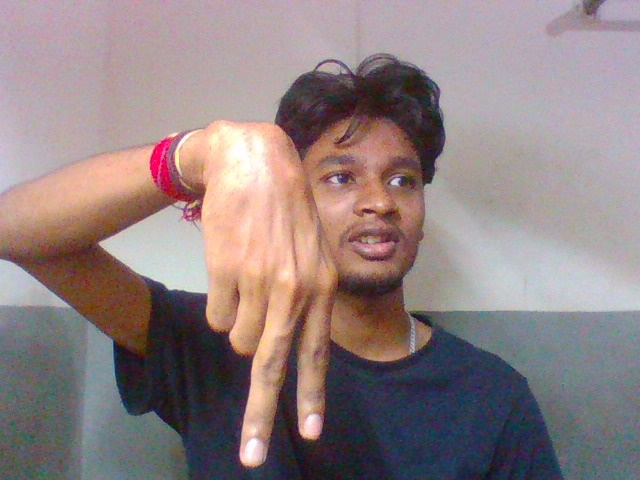N: (168, 121, 350, 471)
